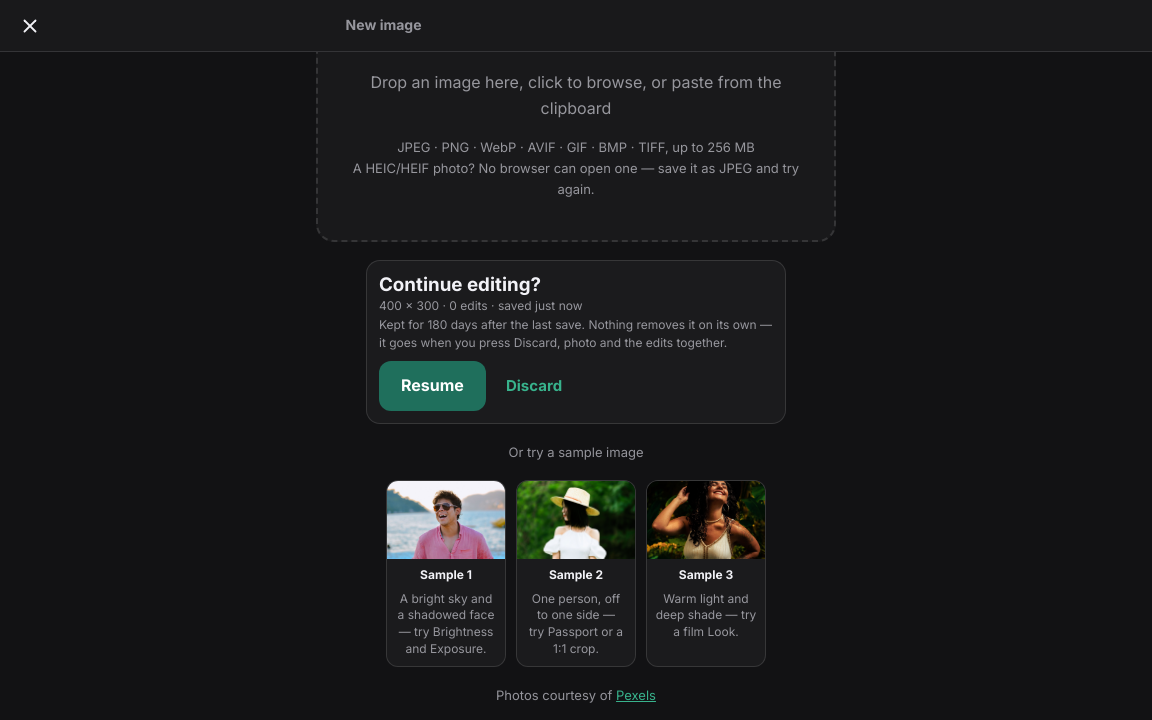
Test: the session the editor offers › says so, and keeps the document untouched, when the image is gone
(page scrolled)
Click the button "Resume".
click(432, 386)  # box [379,361,486,411]
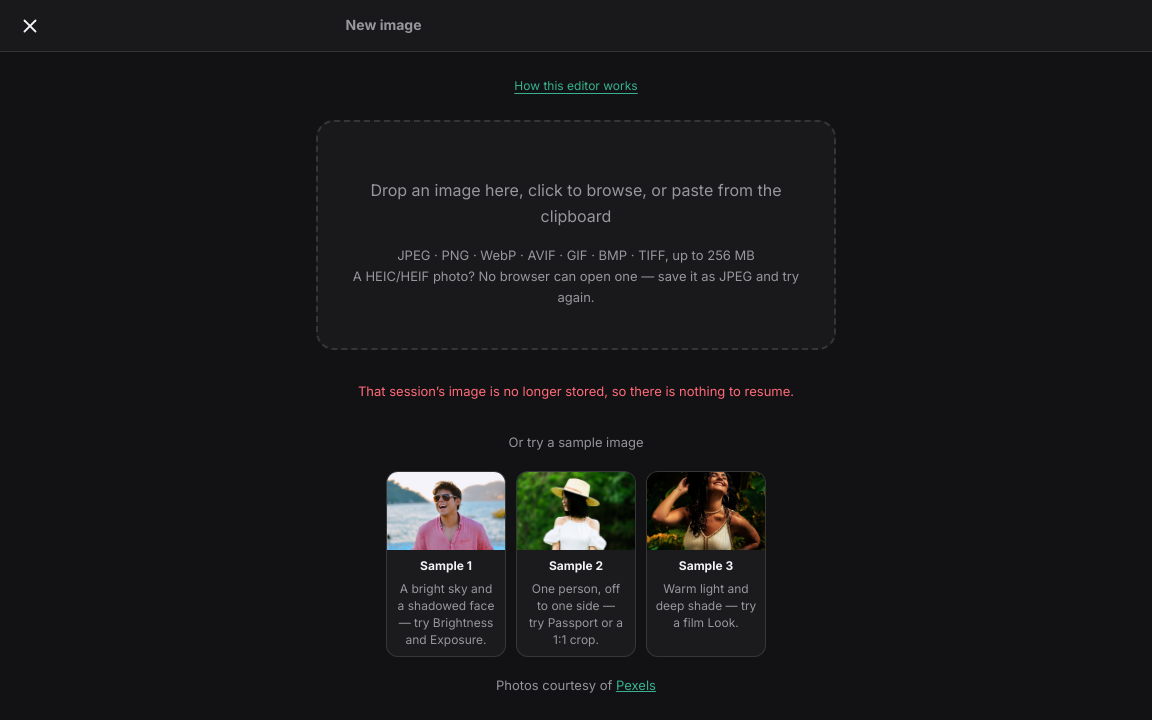
expect the message "That session’s image is no longer stored, so there is nothing to resume." is shown: met, box [358,380,794,401]
